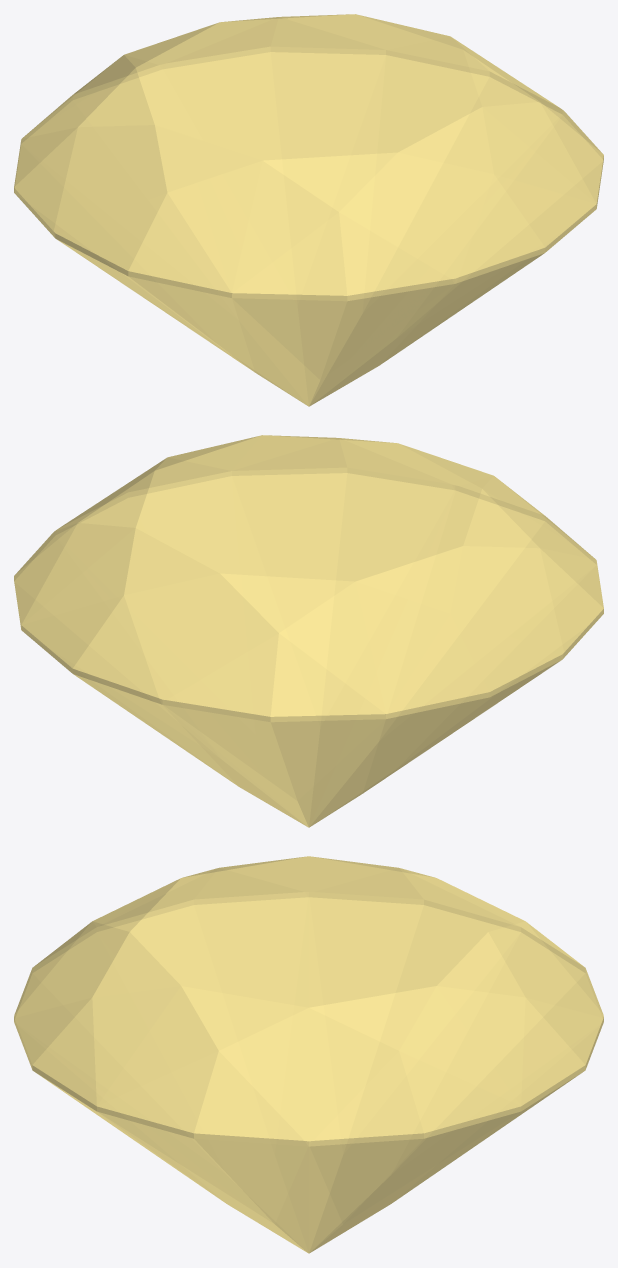
The model's file is round saphire jaune.glb.
The picture shows the model from 3 angles, top to bottom: view 1: azimuth 30°, elevation 25°; view 2: azimuth 150°, elevation 25°; view 3: azimuth 270°, elevation 25°; orthographic projection.
Visible parts, largest first — view 1: White_1_11.008; view 2: White_1_11.008; view 3: White_1_11.008.
Boxes of the visible parts, <box> form: White_1_11.008: <box>14,14,603,406</box>; White_1_11.008: <box>14,435,603,827</box>; White_1_11.008: <box>14,856,603,1253</box>.
Size of the model in its own units: 1.75 by 1.05 by 1.75.
